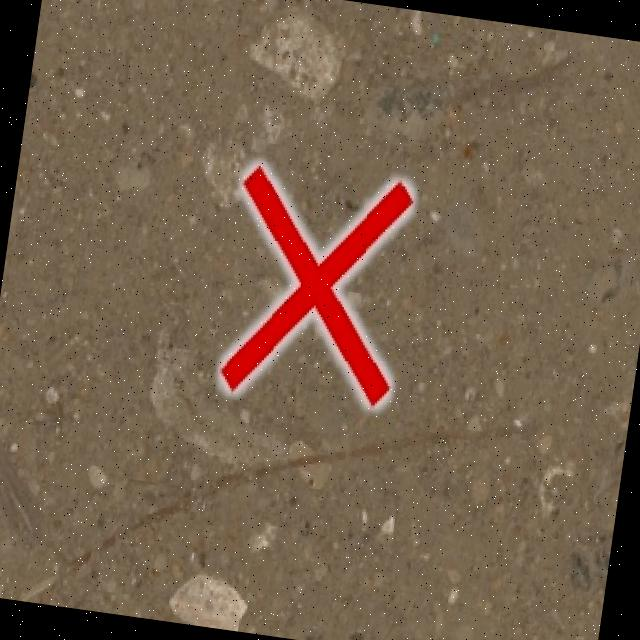x_marker: (215, 160, 416, 411)
